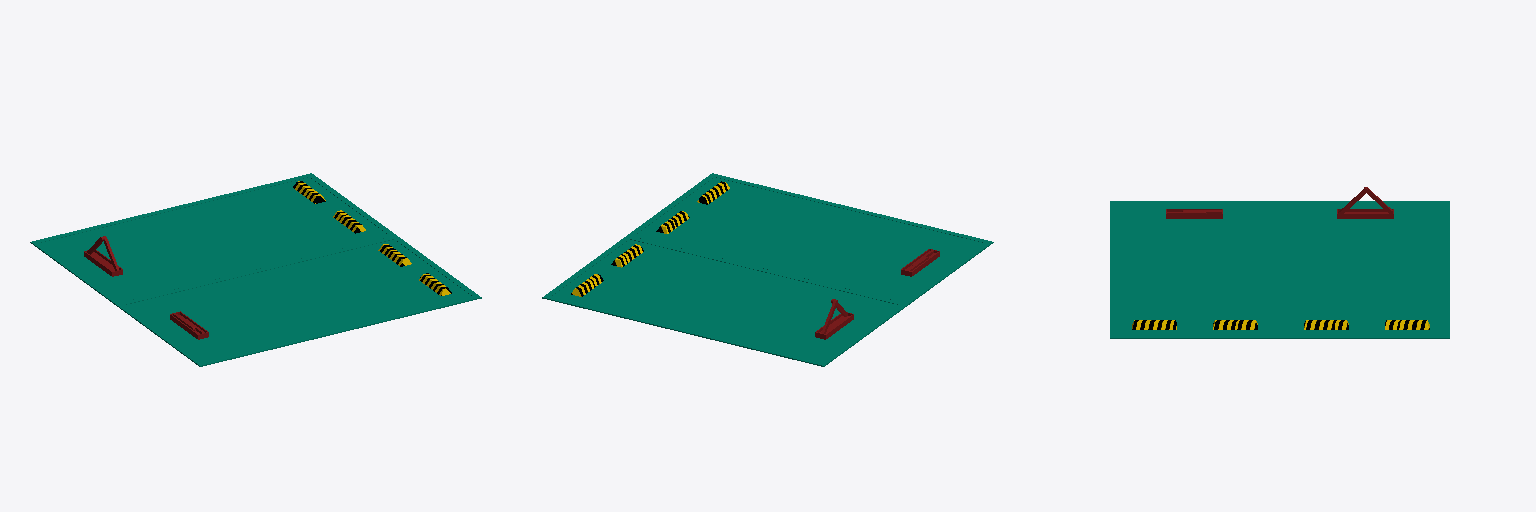
The picture shows the model from 3 angles: view 1: azimuth 30°, elevation 25°; view 2: azimuth 150°, elevation 25°; view 3: azimuth 270°, elevation 25°; orthographic projection.
Parts seen in each view (by area): view 1: Object003, Object002, Rectangle091, Rectangle090, Rectangle01, Line02, Object01; view 2: Object003, Object002, Rectangle090, Rectangle091, Object01, Line02, Rectangle01; view 3: Object003, Object002, Rectangle091, Rectangle090, Object01, Line02, Rectangle01, Rectangle88.
Part boxes in pixels (left/top/right/bottom): Object003: left=125, top=239, right=471, bottom=361; Object002: left=40, top=177, right=386, bottom=299; Rectangle091: left=115, top=235, right=481, bottom=366; Rectangle090: left=30, top=173, right=395, bottom=304; Rectangle01: left=84, top=236, right=122, bottom=276; Line02: left=293, top=181, right=365, bottom=233; Object01: left=378, top=244, right=451, bottom=295; Object003: left=637, top=177, right=983, bottom=299; Object002: left=552, top=239, right=898, bottom=361; Rectangle090: left=542, top=235, right=908, bottom=366; Rectangle091: left=628, top=173, right=993, bottom=304; Object01: left=656, top=181, right=729, bottom=233; Line02: left=571, top=244, right=643, bottom=296; Rectangle01: left=815, top=299, right=853, bottom=339; Object003: left=1117, top=204, right=1272, bottom=335; Object002: left=1287, top=204, right=1442, bottom=335; Rectangle091: left=1110, top=201, right=1279, bottom=338; Rectangle090: left=1280, top=201, right=1449, bottom=338; Object01: left=1132, top=320, right=1257, bottom=329; Line02: left=1304, top=320, right=1429, bottom=329; Rectangle01: left=1337, top=187, right=1393, bottom=218; Rectangle88: left=1166, top=209, right=1222, bottom=218.
Size of the model in its own units: 5625 by 562 by 5873.
Materials: 3 (1 with a texture image).